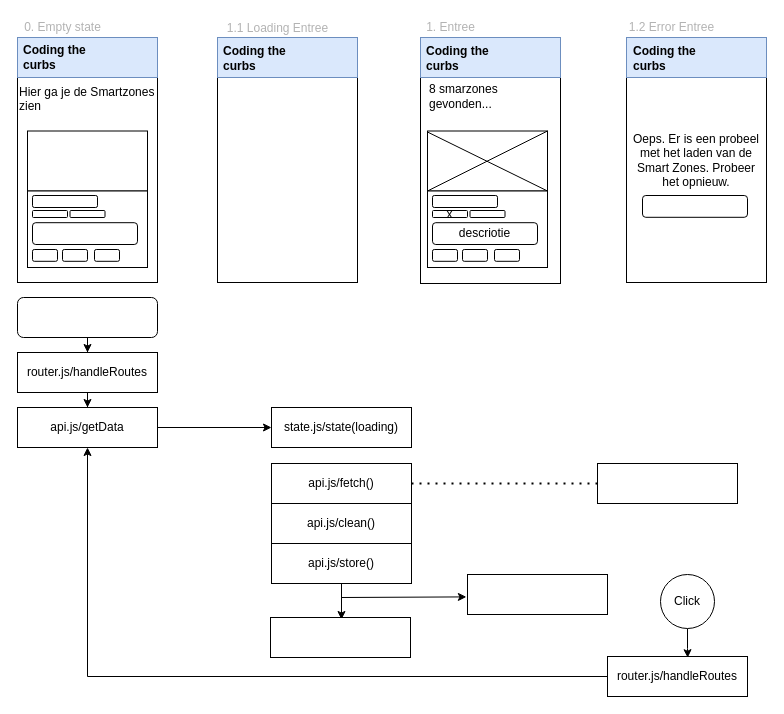
Image size: 784x714. Some labels were removed from this diagram. Here are the shapes that lost their labels. From the top down, the box of each, then its label:
(216, 36, 358, 282): Smarzones laden...
(432, 194, 498, 208): title
(642, 194, 748, 217): Reload
(16, 296, 158, 338): smartzones.js
(596, 462, 738, 504): state.js/state(err)
(466, 574, 608, 614): render.js/render(data)
(270, 616, 410, 658): state.js/state(loaded)
